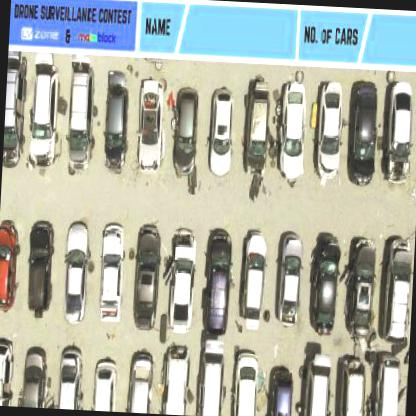car: (337, 232, 377, 347), (378, 238, 414, 348), (26, 52, 60, 168), (346, 78, 379, 186), (306, 235, 340, 338), (202, 229, 235, 333), (66, 64, 96, 174), (132, 224, 162, 332), (102, 69, 131, 174), (62, 224, 92, 323), (280, 79, 308, 185), (2, 50, 27, 168), (25, 221, 56, 315), (168, 228, 196, 332), (387, 78, 414, 184), (317, 80, 345, 180), (276, 233, 305, 327), (98, 224, 125, 324), (206, 87, 234, 177), (243, 231, 269, 326), (246, 78, 271, 176), (197, 338, 228, 415), (174, 89, 200, 180), (138, 80, 162, 174), (0, 220, 23, 314), (160, 345, 190, 414), (232, 348, 262, 415), (373, 353, 405, 415), (302, 352, 333, 415), (127, 351, 156, 412), (338, 356, 367, 415), (22, 346, 50, 406), (58, 348, 84, 408), (91, 358, 120, 410), (268, 367, 296, 415), (0, 337, 16, 406)
